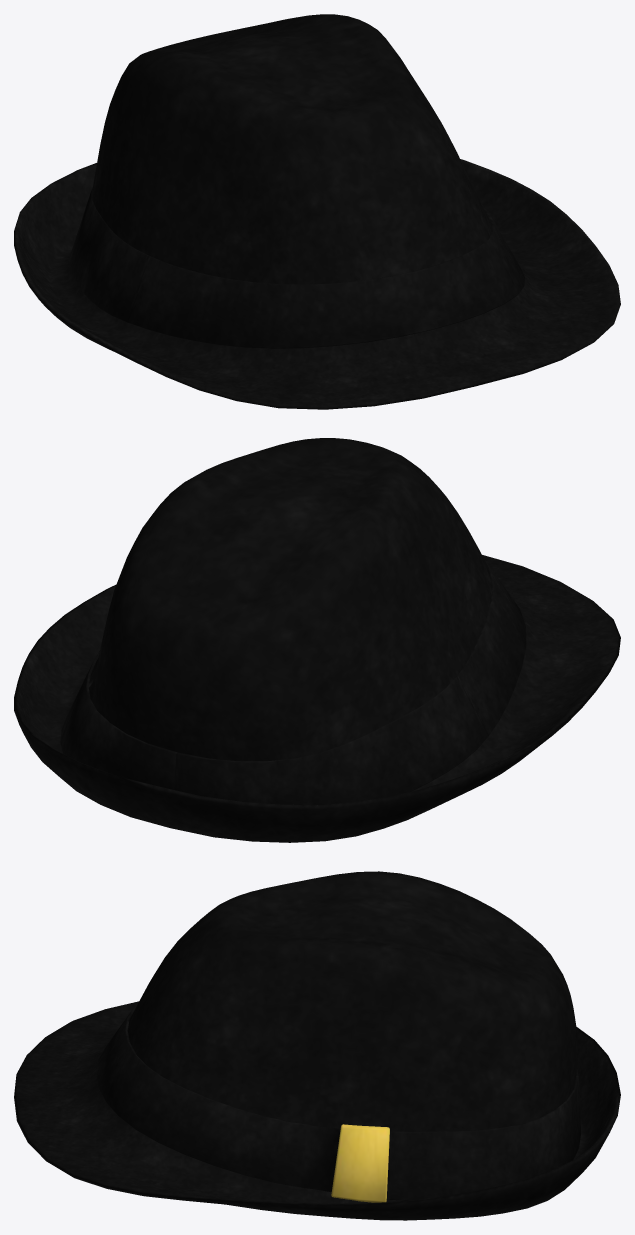
The model's file is outfit_fedora.glb.
The picture shows the model from 3 angles, top to bottom: view 1: azimuth 30°, elevation 25°; view 2: azimuth 150°, elevation 25°; view 3: azimuth 270°, elevation 25°; orthographic projection. The views are drawn at different scales.
Visible parts, largest first — view 1: outfit_fedora; view 2: outfit_fedora; view 3: outfit_fedora.
Boxes of the visible parts, x1=… form: outfit_fedora: x1=14, y1=14, x2=620, y2=409; outfit_fedora: x1=14, y1=438, x2=620, y2=842; outfit_fedora: x1=14, y1=871, x2=620, y2=1220.
Size of the model in its own units: 0.6122 by 0.3 by 0.706.
2 materials, 2 textured.
